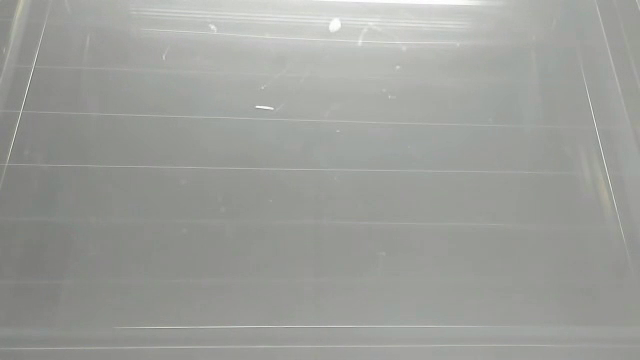alpha: (324, 17, 344, 34), (205, 20, 221, 34)
